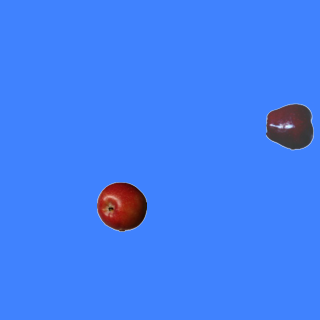Apple Braeburn: (96, 181, 146, 231)
Apple Red Delicious: (265, 101, 315, 151)
